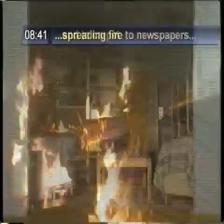fire: (5, 60, 146, 220)
